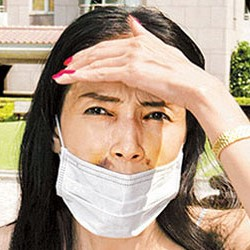mask: (53, 121, 184, 241)
